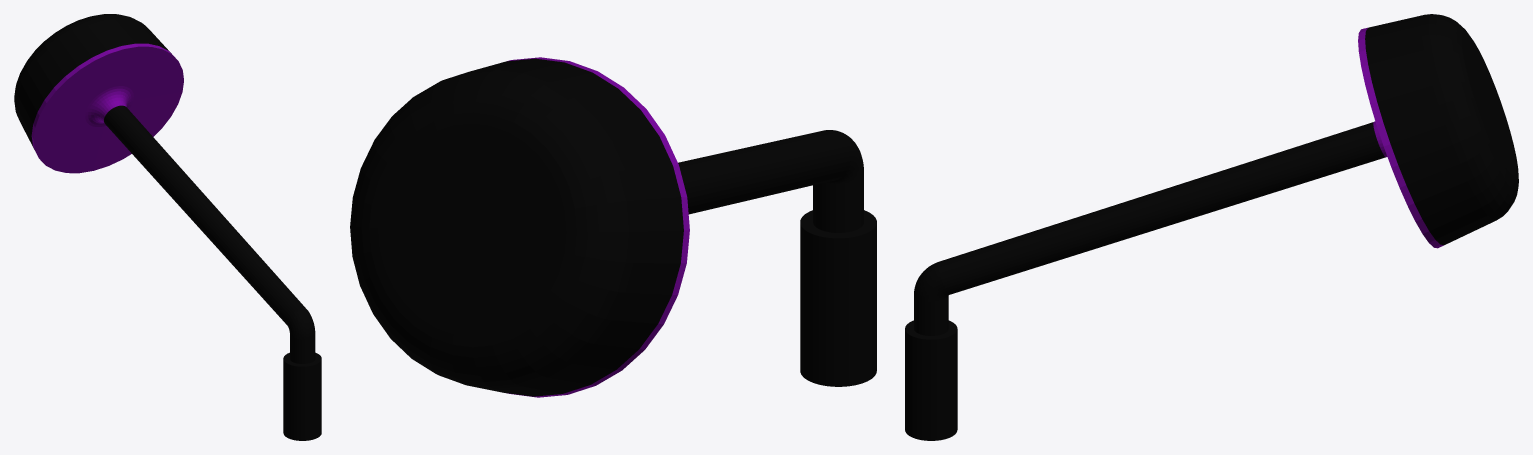
File: AntennaLevel1.fbx
3 views of the same model, side by side, from view 1: azimuth 30°, elevation 25°; view 2: azimuth 150°, elevation 25°; view 3: azimuth 270°, elevation 25° (orthographic). The views are drawn at different scales.
Visible parts, largest first — view 1: AntennaLevel1; view 2: AntennaLevel1; view 3: AntennaLevel1.
Boxes of the visible parts, left/top/right/bottom form: AntennaLevel1: left=14, top=14, right=321, bottom=440; AntennaLevel1: left=350, top=57, right=876, bottom=397; AntennaLevel1: left=905, top=14, right=1518, bottom=440.
Size of the model in its own units: 22.41 by 41.61 by 59.25.
